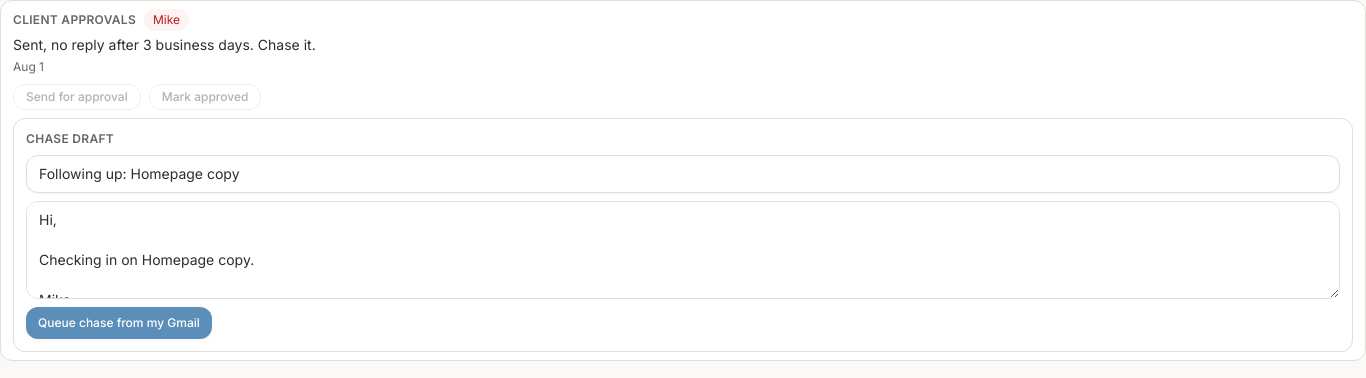
Test case: BlockerRow — chase draft › the queue button is disabled once the subject or body is emptied
Clear the field with test id "chase-draft-subject": (683, 174) [26, 155, 1340, 193]
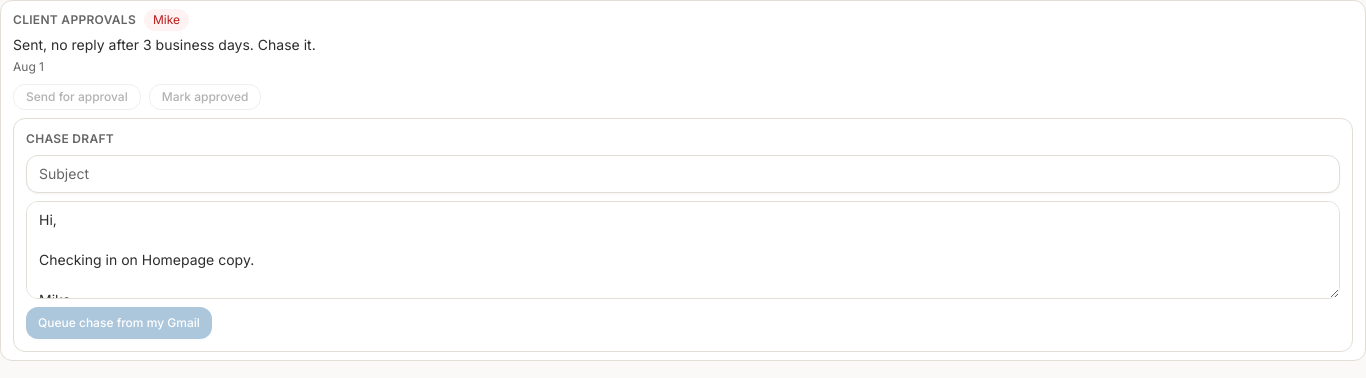
Expected: the button "Queue chase from my Gmail" is disabled, [26, 307, 212, 339]
